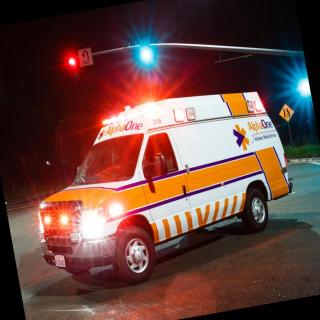Ambulance: (12, 61, 314, 300)
